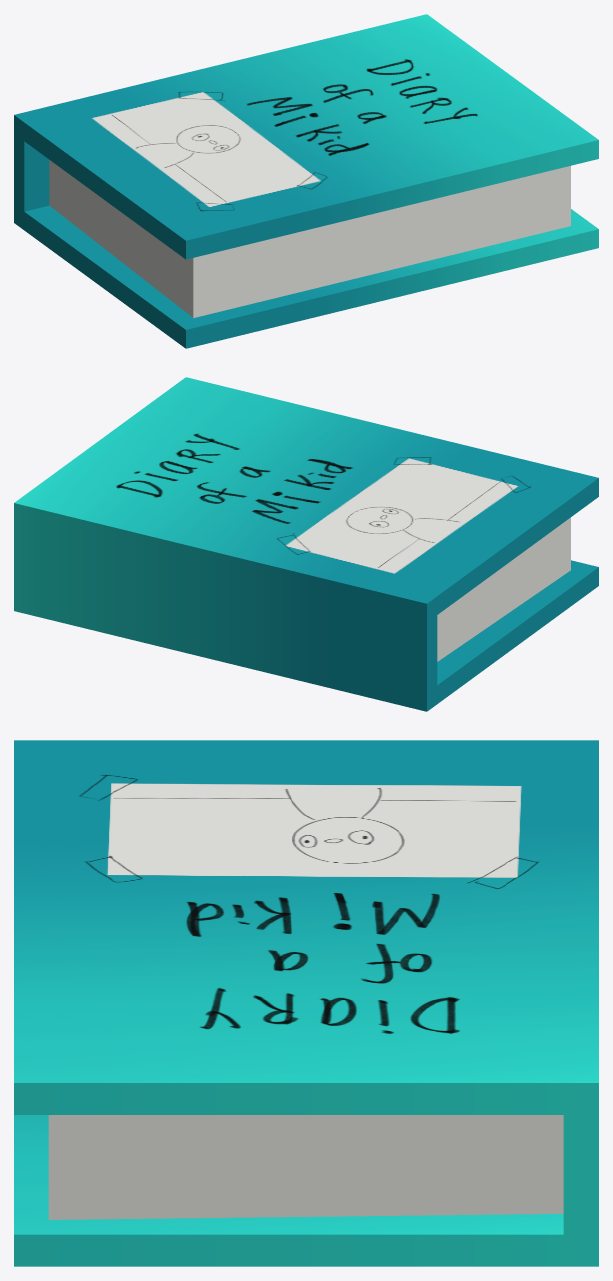
File: Book.fbx
3 views of the same model, one above another, from view 1: azimuth 30°, elevation 25°; view 2: azimuth 150°, elevation 25°; view 3: azimuth 270°, elevation 25° (orthographic). The views are drawn at different scales.
Parts seen in each view (by area): view 1: Book; view 2: Book; view 3: Book.
Boxes of the visible parts, x1=… form: Book: x1=14, y1=14, x2=598, y2=348; Book: x1=14, y1=377, x2=598, y2=711; Book: x1=14, y1=740, x2=598, y2=1266.
Size of the model in its own units: 40 by 28.85 by 10.
